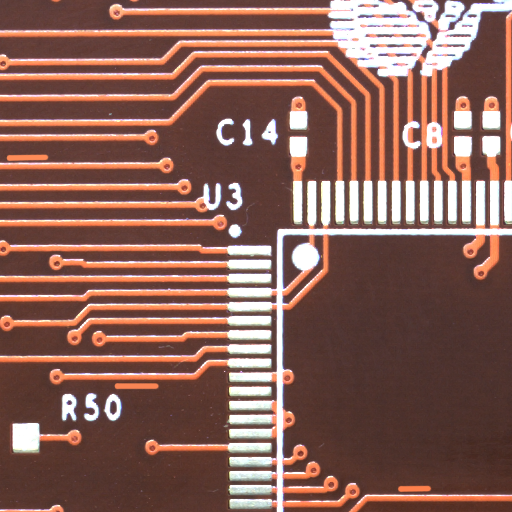Spurious_copper: (135, 385, 186, 394), (27, 157, 72, 167), (414, 488, 447, 499)
